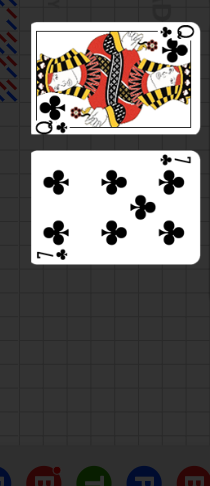7C: (35, 247, 70, 262), (158, 154, 193, 168)
QC: (31, 89, 78, 133), (152, 22, 198, 66)
